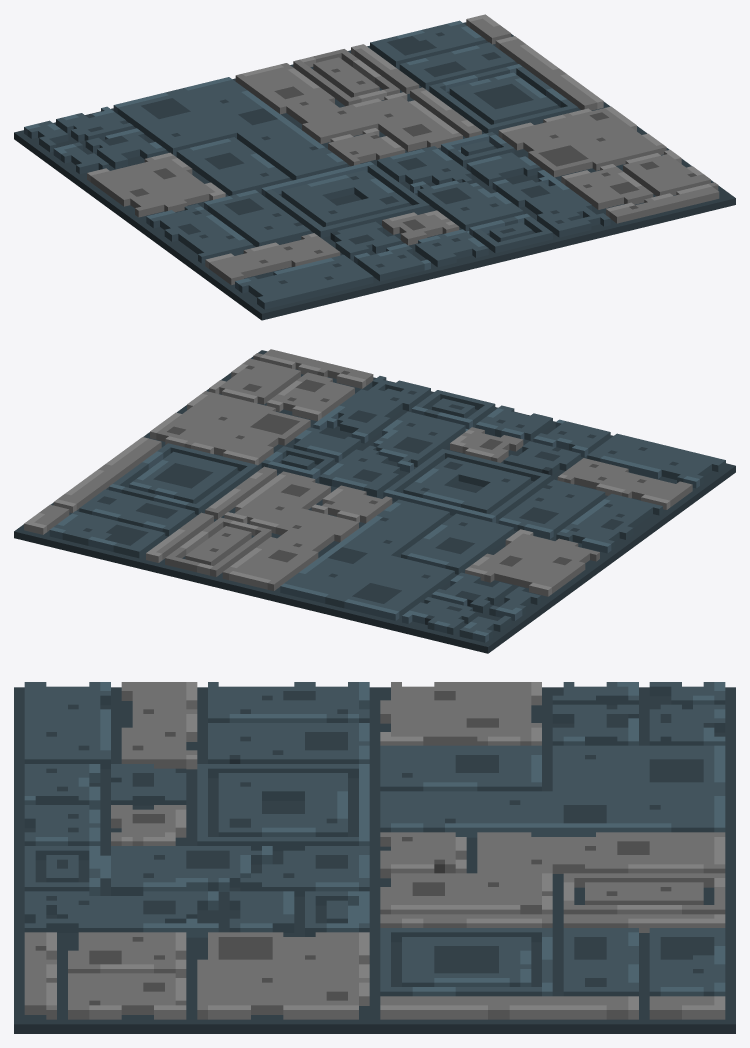
The model's file is wall_E_solo_piso_2.obj.
3 renders of one model, top to bottom at view 1: azimuth 30°, elevation 25°; view 2: azimuth 150°, elevation 25°; view 3: azimuth 270°, elevation 25°, orthographic. The views are drawn at different scales.
Bounding box in the file's own units: 74 × 2 × 67.
Materials: 1 (1 with a texture image).
